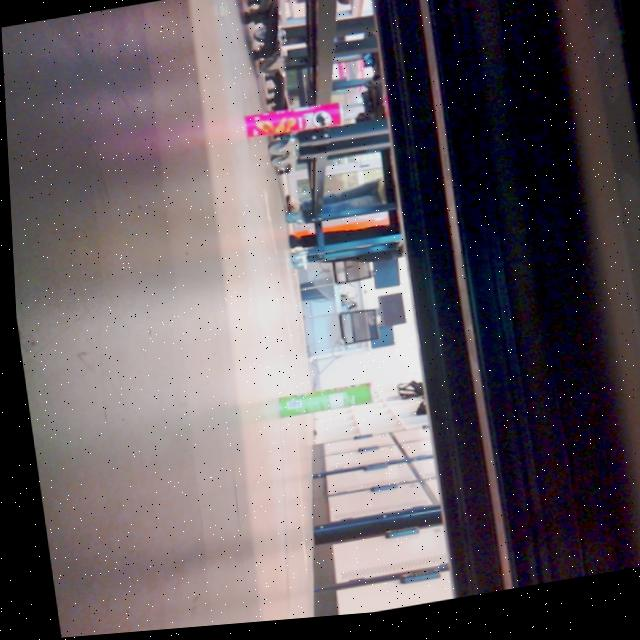greenpringles: (253, 367, 389, 455)
redpringles: (234, 87, 361, 159)
